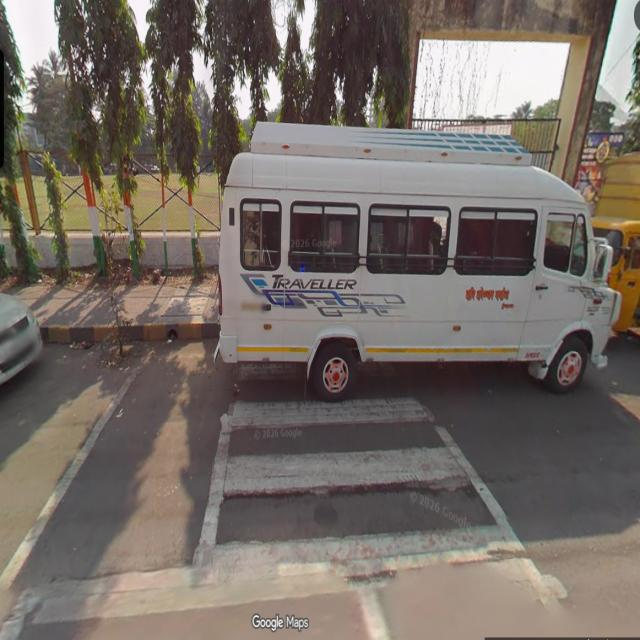illegalparking: (204, 124, 626, 434)
